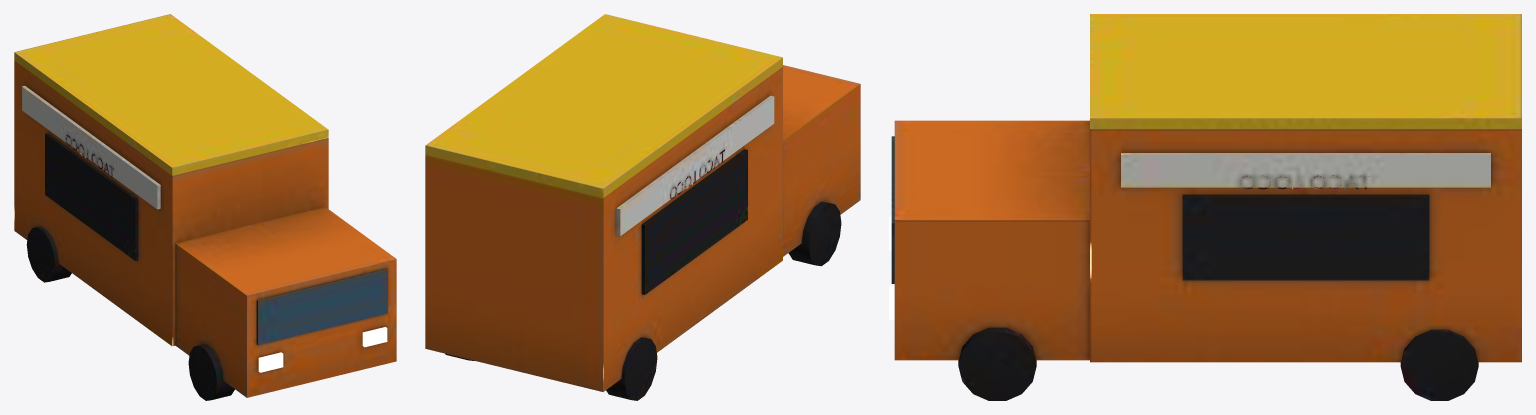
The model's file is food_truck.glb.
3 views of the same model, side by side, from view 1: azimuth 30°, elevation 25°; view 2: azimuth 150°, elevation 25°; view 3: azimuth 270°, elevation 25° (orthographic). The views are drawn at different scales.
Visible parts, largest first — view 1: food_truck; view 2: food_truck; view 3: food_truck.
Part boxes in pixels (x1=…): food_truck: x1=14, y1=14, x2=396, y2=400; food_truck: x1=425, y1=14, x2=860, y2=400; food_truck: x1=889, y1=14, x2=1521, y2=400.
Bounding box in the file's own units: 2.51 × 3.01 × 6.15.
1 material, 1 textured.
